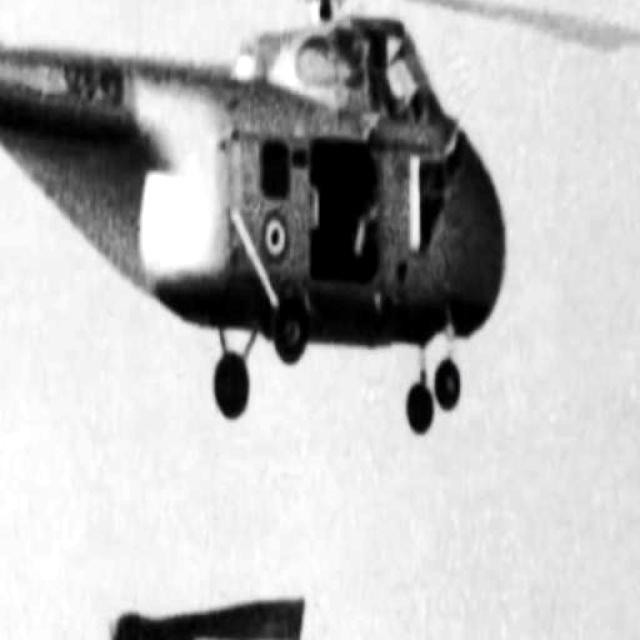drone: (0, 0, 640, 451)
